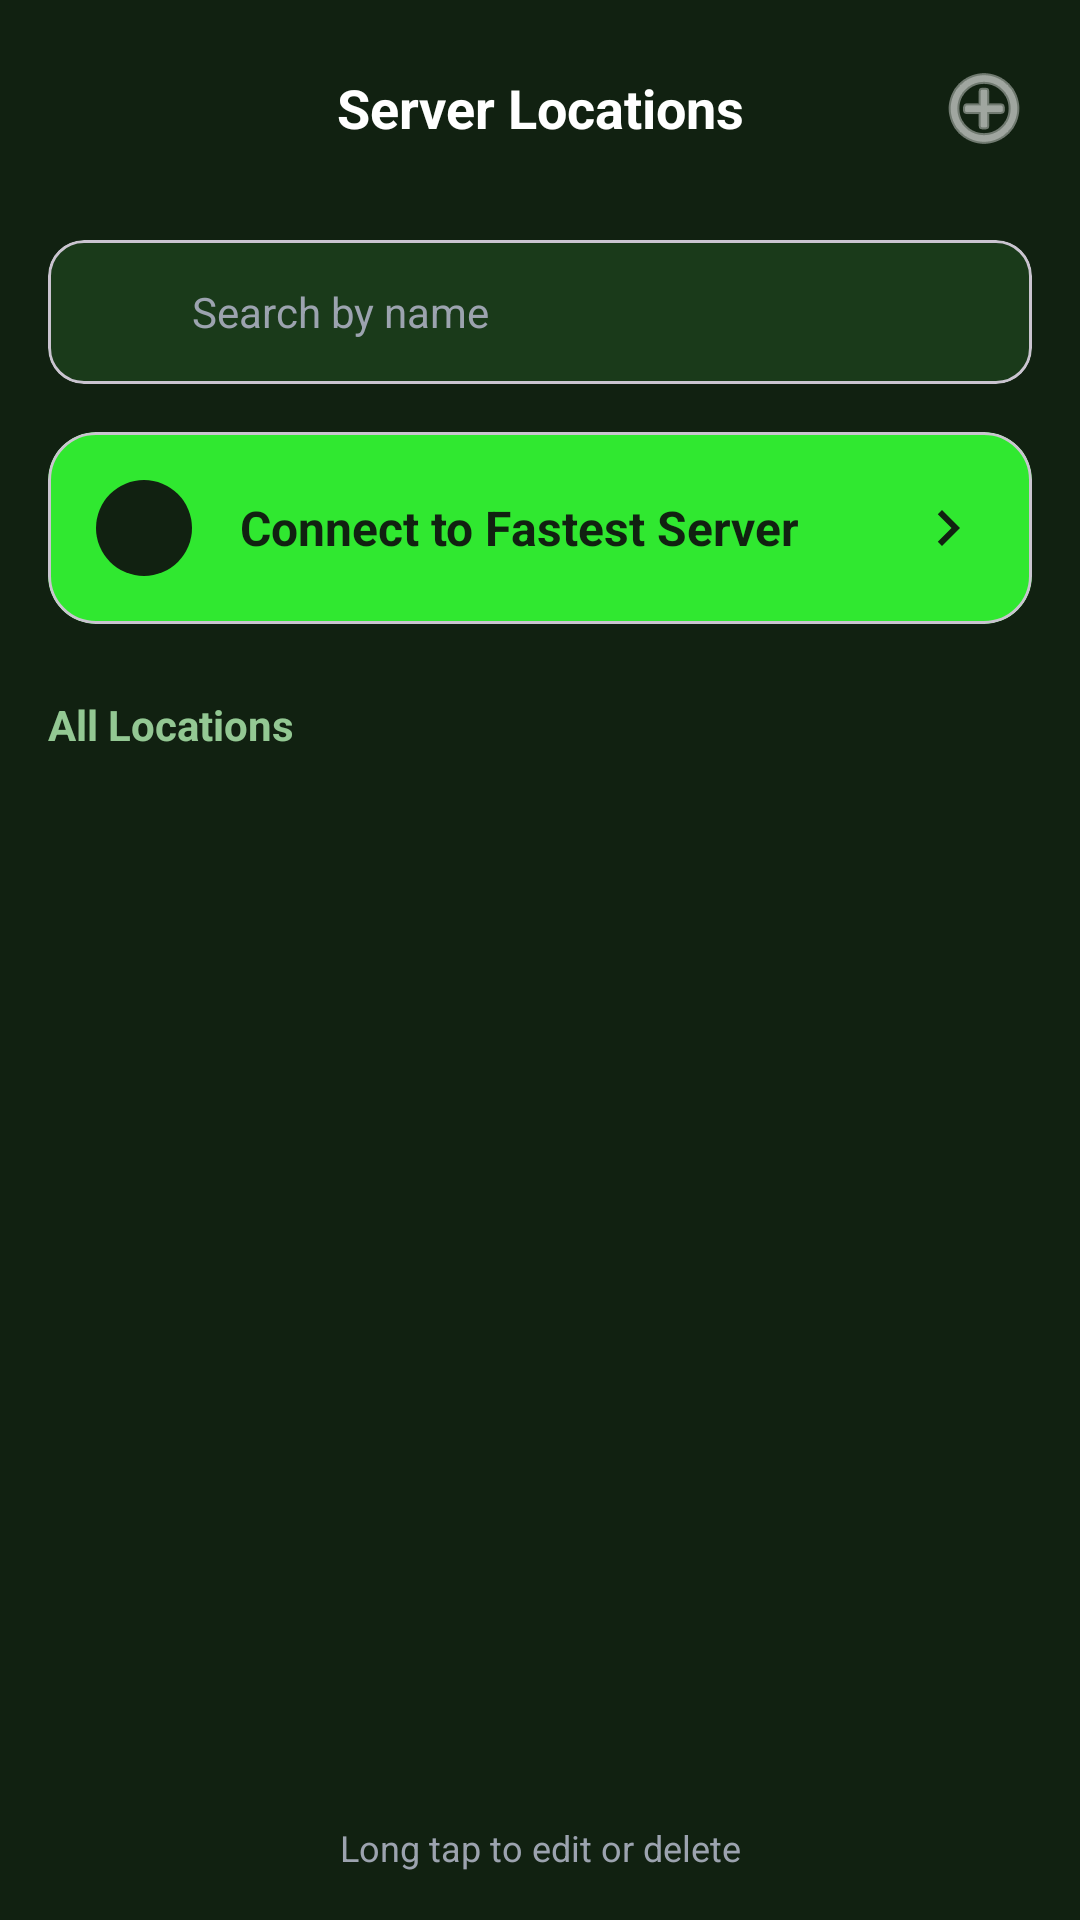

Icons on this 1080 × 1920 Android screen, each with the point to tap as (x=x, y=y):
Add Server: (x=984, y=108)
chevron right: (x=949, y=528)
